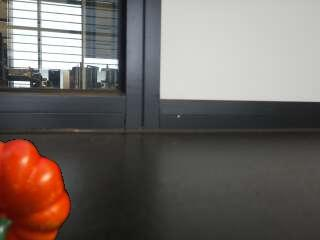Pumpkin: (0, 137, 70, 240)
